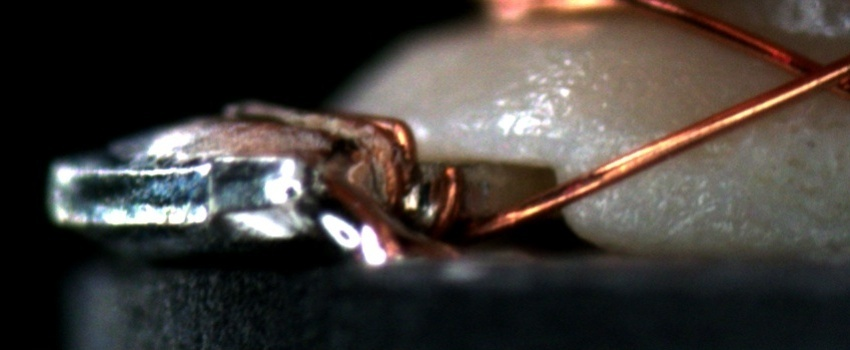CL: (767, 41, 850, 104)
DL: (558, 116, 758, 175)
TE: (365, 112, 467, 238)
